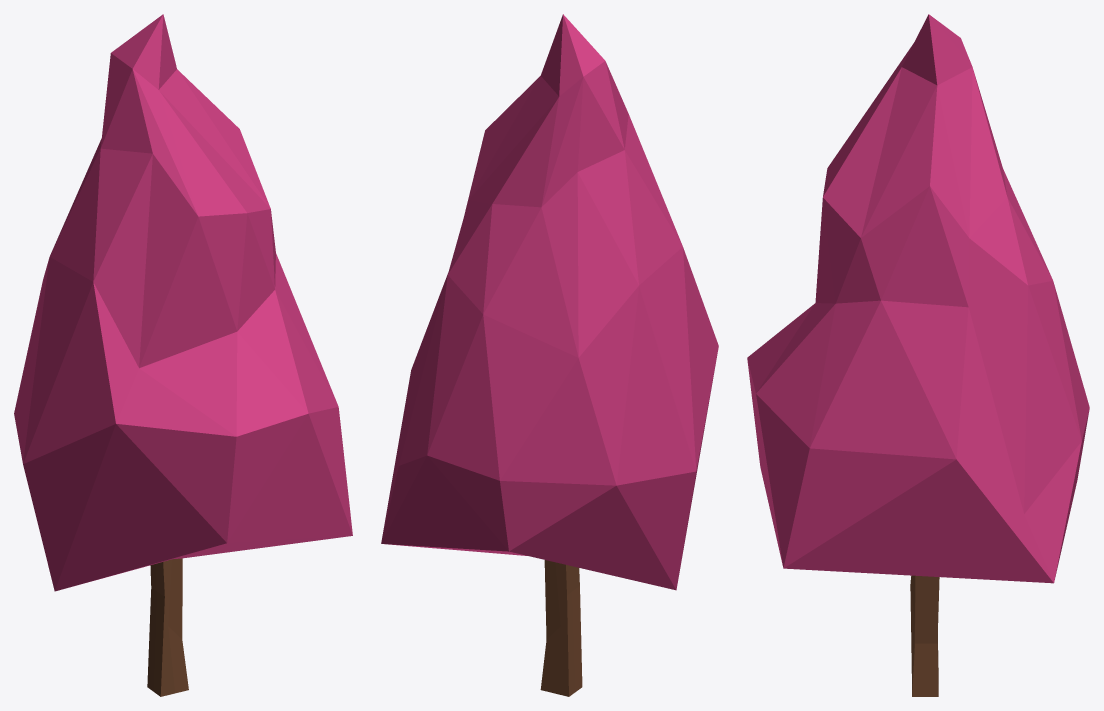
Rendered from Tree_16_Pink.fbx.
3 views of the same model, side by side, from view 1: azimuth 30°, elevation 25°; view 2: azimuth 150°, elevation 25°; view 3: azimuth 270°, elevation 25° (orthographic).
Visible parts, largest first — view 1: Tree_16_Pink_Part_1, Tree_16_Pink_Part_2; view 2: Tree_16_Pink_Part_1, Tree_16_Pink_Part_2; view 3: Tree_16_Pink_Part_1, Tree_16_Pink_Part_2.
Boxes of the visible parts, <box> form: Tree_16_Pink_Part_1: <box>14,14,352,591</box>; Tree_16_Pink_Part_2: <box>147,558,188,696</box>; Tree_16_Pink_Part_1: <box>381,14,718,590</box>; Tree_16_Pink_Part_2: <box>540,560,582,696</box>; Tree_16_Pink_Part_1: <box>747,14,1089,583</box>; Tree_16_Pink_Part_2: <box>910,575,939,696</box>.
Bounding box in the file's own units: 339 × 797 × 367.
